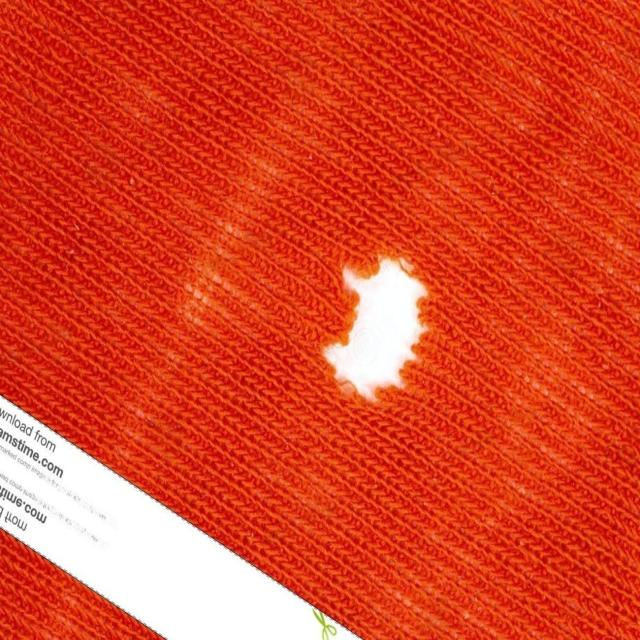cut: (316, 248, 432, 405)
